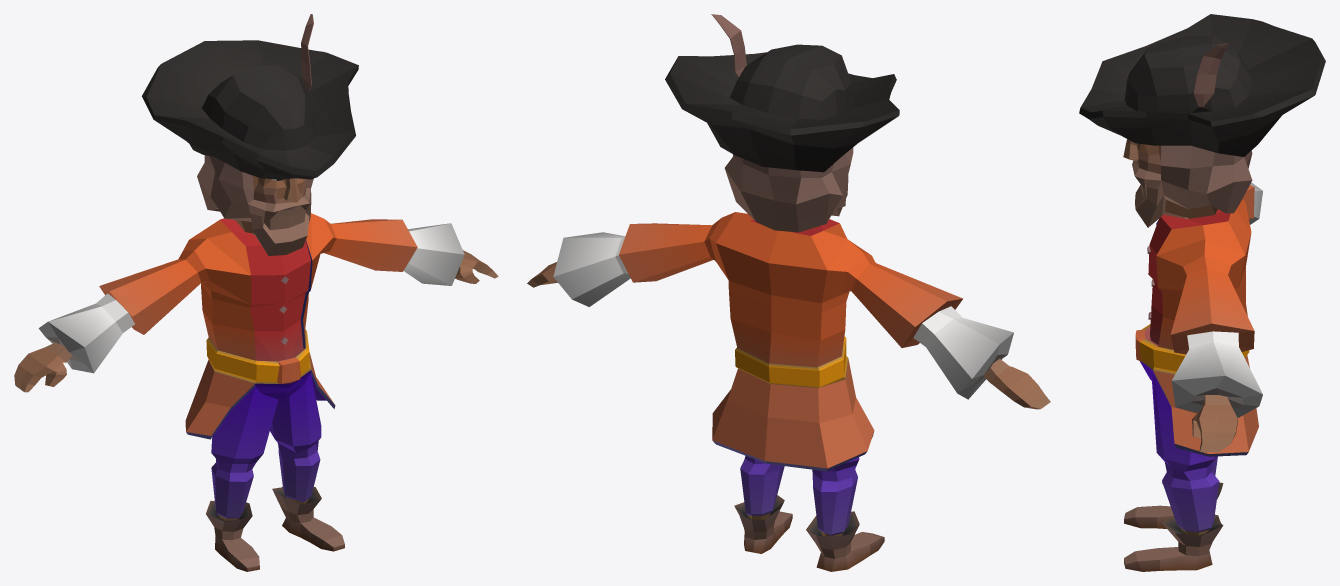
Rendered from Sailor0.fbx.
3 renders of one model, left to right at view 1: azimuth 30°, elevation 25°; view 2: azimuth 150°, elevation 25°; view 3: azimuth 270°, elevation 25°, orthographic. The views are drawn at different scales.
Visible parts, largest first — view 1: SailorBody, PirateHat; view 2: SailorBody, PirateHat; view 3: SailorBody, PirateHat.
Part boxes in pixels (box(x1,y1,x2,y2)): SailorBody: box(14, 155, 498, 571); PirateHat: box(142, 14, 358, 179); SailorBody: box(527, 147, 1050, 571); PirateHat: box(665, 14, 899, 172); SailorBody: box(1123, 139, 1262, 571); PirateHat: box(1079, 14, 1325, 156).
Bounding box in the file's own units: 138 × 57.73 × 138.
